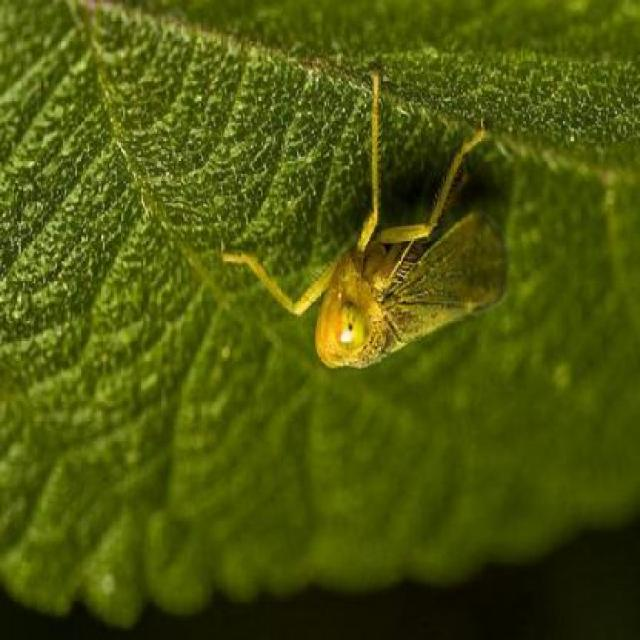green-leafhopper: (242, 89, 496, 385)
